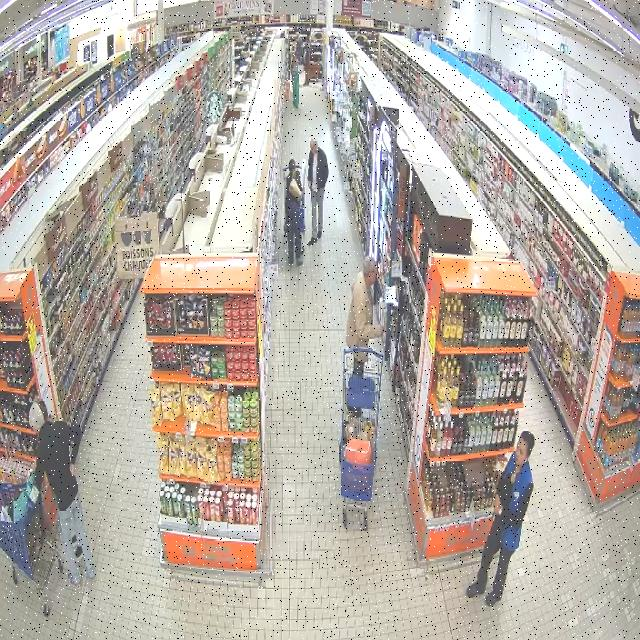bags: (289, 177, 302, 201)
hands: (494, 494, 501, 515), (376, 326, 384, 336), (510, 473, 517, 484), (70, 464, 74, 475), (308, 181, 311, 188)
person: (30, 401, 96, 586), (467, 432, 534, 606), (346, 257, 383, 348), (308, 139, 329, 245), (286, 159, 303, 265)
